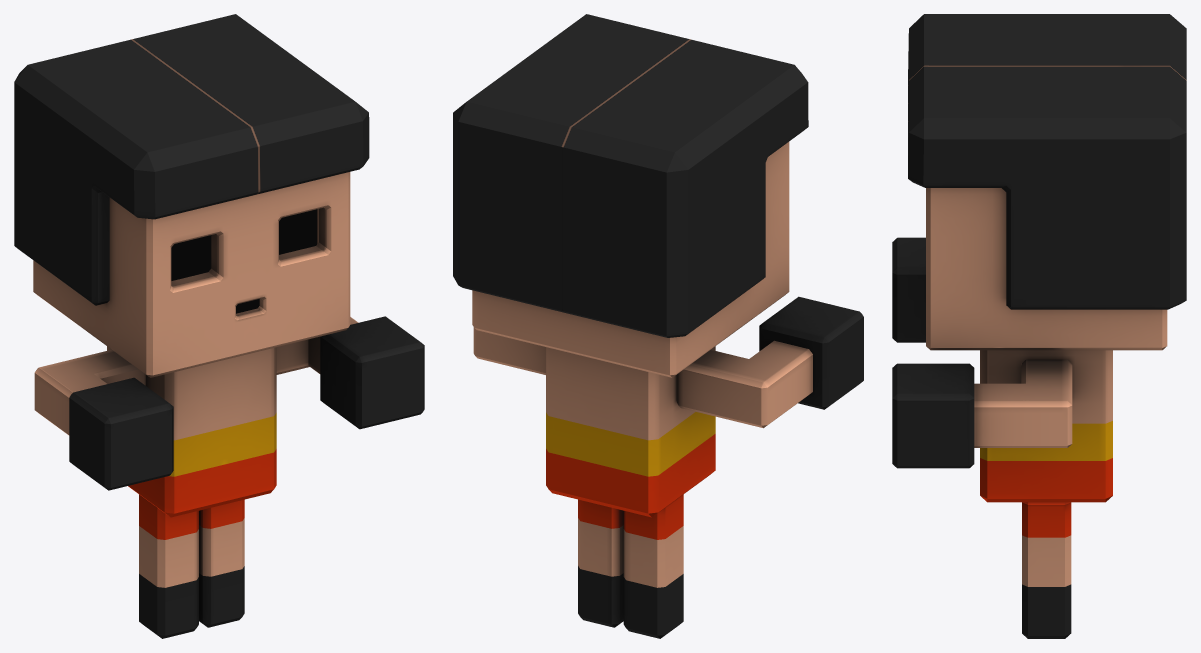
The model's file is BoxingMan.FBX.
The picture shows the model from 3 angles, left to right: view 1: azimuth 30°, elevation 25°; view 2: azimuth 150°, elevation 25°; view 3: azimuth 270°, elevation 25°; orthographic projection. The views are drawn at different scales.
Visible parts, largest first — view 1: Box77; view 2: Box77; view 3: Box77.
Boxes of the visible parts, box(x1,y1,x2,y2) form: Box77: box(14, 14, 424, 638); Box77: box(453, 14, 863, 638); Box77: box(892, 14, 1186, 638).
Bounding box in the file's own units: 7.86 × 12.65 × 6.09.
Materials: 1 (1 with a texture image).
